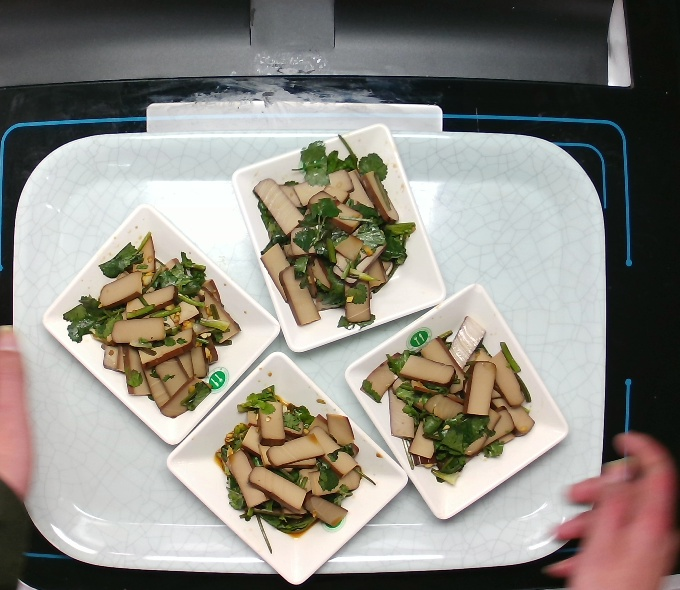wcq-JiDanGan: (55, 233, 245, 420), (253, 132, 417, 330), (362, 317, 542, 486), (212, 387, 377, 547)
